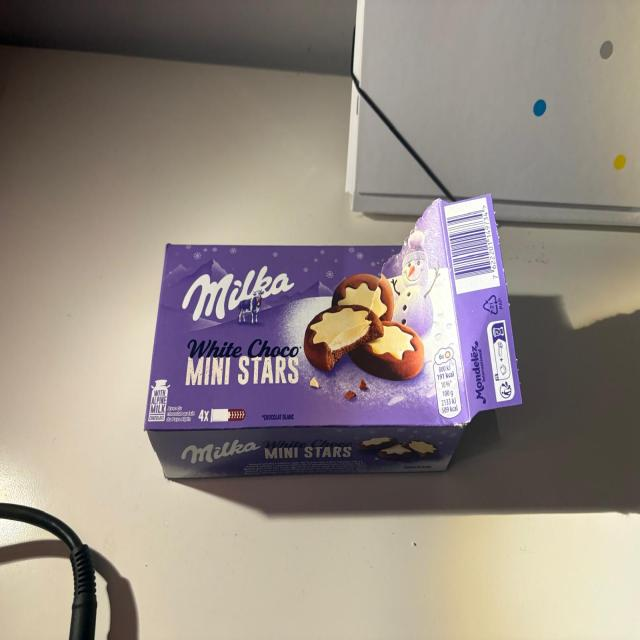damaged_package: (147, 195, 522, 480)
